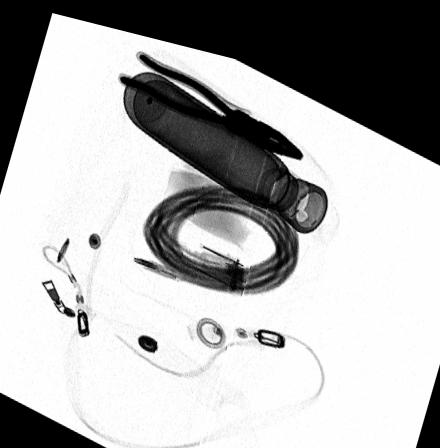Pliers: (115, 46, 302, 144)
